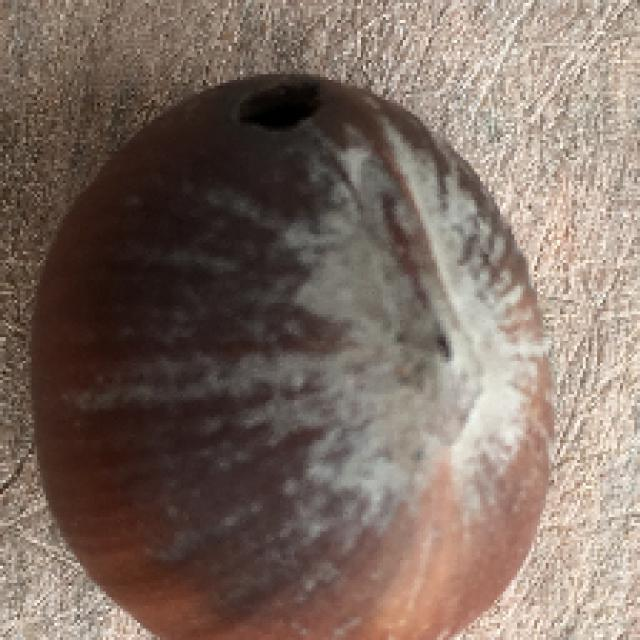DamagedHazelnut: (32, 70, 559, 637)
